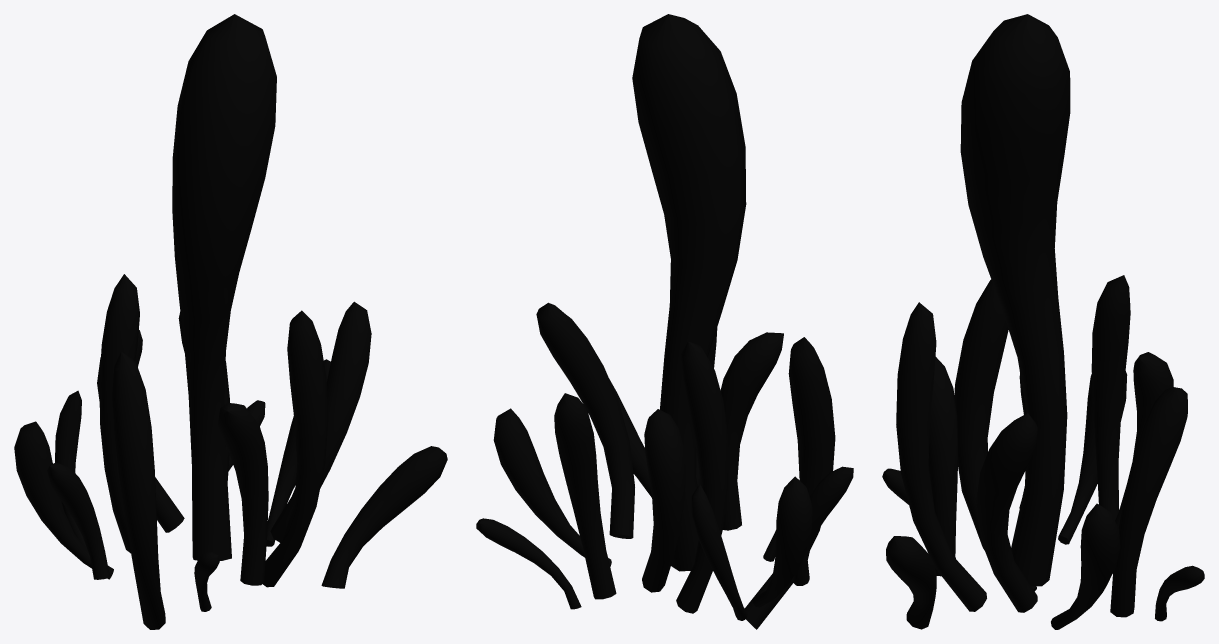
File: cordyceps.glb
The picture shows the model from 3 angles, left to right: view 1: azimuth 30°, elevation 25°; view 2: azimuth 150°, elevation 25°; view 3: azimuth 270°, elevation 25°; orthographic projection. The views are drawn at different scales.
Visible parts, largest first — view 1: NurbsPath, NurbsPath.007, NurbsPath.008, NurbsPath.003, NurbsPath.001, NurbsPath.005, NurbsPath.010, NurbsPath.012, NurbsPath.002, NurbsPath.014, NurbsPath.009, NurbsPath.004 (+1 smaller); view 2: NurbsPath, NurbsPath.001, NurbsPath.010, NurbsPath.011, NurbsPath.007, NurbsPath.004, NurbsPath.003, NurbsPath.009, NurbsPath.012, NurbsPath.014, NurbsPath.006, NurbsPath.002 (+1 smaller); view 3: NurbsPath, NurbsPath.008, NurbsPath.011, NurbsPath.007, NurbsPath.010, NurbsPath.001, NurbsPath.003, NurbsPath.009, NurbsPath.005, NurbsPath.012, NurbsPath.004, NurbsPath.006 (+1 smaller).
Part boxes in pixels (box(x1,y1,x2,y2)): NurbsPath: box(172, 14, 276, 560); NurbsPath.007: box(112, 351, 165, 629); NurbsPath.008: box(263, 310, 328, 587); NurbsPath.003: box(218, 403, 268, 585); NurbsPath.001: box(270, 301, 371, 542); NurbsPath.005: box(321, 446, 447, 588); NurbsPath.010: box(99, 274, 139, 553); NurbsPath.012: box(14, 421, 113, 579); NurbsPath.002: box(47, 462, 109, 579); NurbsPath.014: box(55, 390, 87, 550); NurbsPath.009: box(266, 359, 330, 546); NurbsPath.004: box(97, 330, 184, 532); NurbsPath: box(632, 14, 746, 571); NurbsPath.001: box(536, 302, 634, 538); NurbsPath.010: box(676, 341, 728, 613); NurbsPath.011: box(554, 393, 616, 599); NurbsPath.007: box(744, 337, 835, 629); NurbsPath.004: box(642, 409, 685, 592); NurbsPath.003: box(720, 332, 783, 530); NurbsPath.009: box(493, 408, 611, 566); NurbsPath.012: box(753, 476, 812, 607); NurbsPath.014: box(691, 484, 747, 620); NurbsPath.006: box(476, 518, 581, 609); NurbsPath.002: box(792, 466, 853, 585); NurbsPath: box(960, 14, 1070, 586); NurbsPath.008: box(896, 302, 986, 611); NurbsPath.011: box(1110, 387, 1187, 617); NurbsPath.007: box(954, 279, 1036, 591); NurbsPath.010: box(1091, 275, 1130, 519); NurbsPath.001: box(976, 413, 1037, 612); NurbsPath.003: box(928, 356, 958, 576); NurbsPath.009: box(1051, 503, 1120, 629); NurbsPath.005: box(886, 536, 936, 629); NurbsPath.012: box(1058, 371, 1127, 544); NurbsPath.004: box(1115, 352, 1173, 527); NurbsPath.006: box(1155, 565, 1204, 621).
Size of the model in its own units: 1.11 by 1.87 by 0.8649.
1 material, 1 textured.
